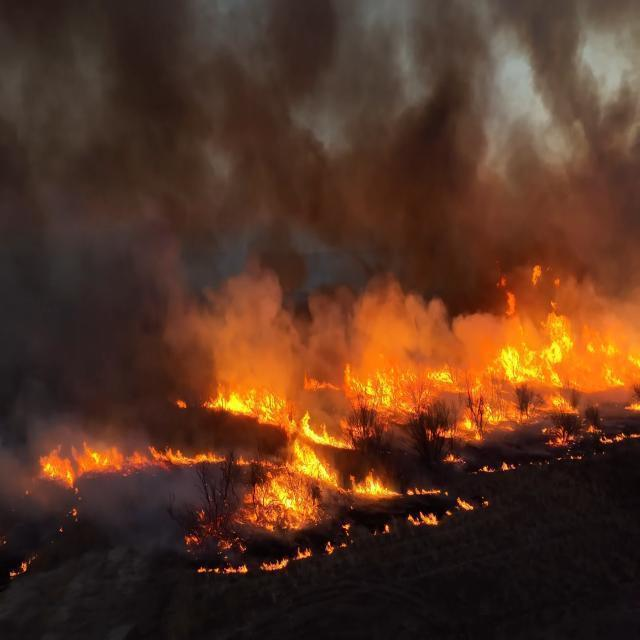Fire: (495, 334, 570, 388), (38, 438, 121, 485), (251, 467, 305, 528), (350, 362, 409, 417), (287, 445, 345, 495)
Smoke: (201, 0, 640, 212), (0, 0, 195, 251), (302, 272, 465, 364), (209, 263, 307, 394)
